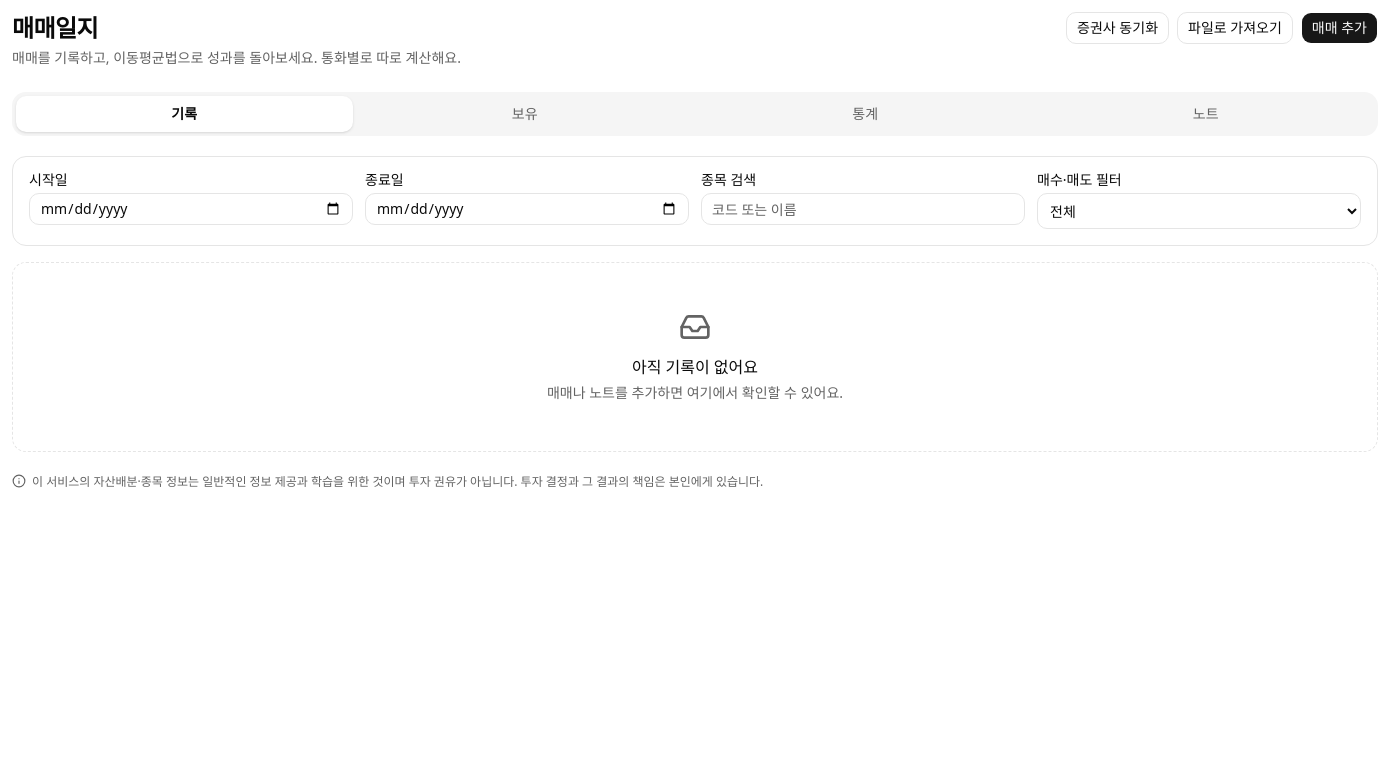
it: 매매일지 증권사 동기화 버튼 › 활성 연결만 목록 순서대로 최근 7일을 요청하고, 실패한 연결 뒤에도 계속하며 성공하면 목록을 다시 불러온다
Step 1. Click the button "증권사 동기화" → coordinates (1118, 28), box [1066, 12, 1169, 44]
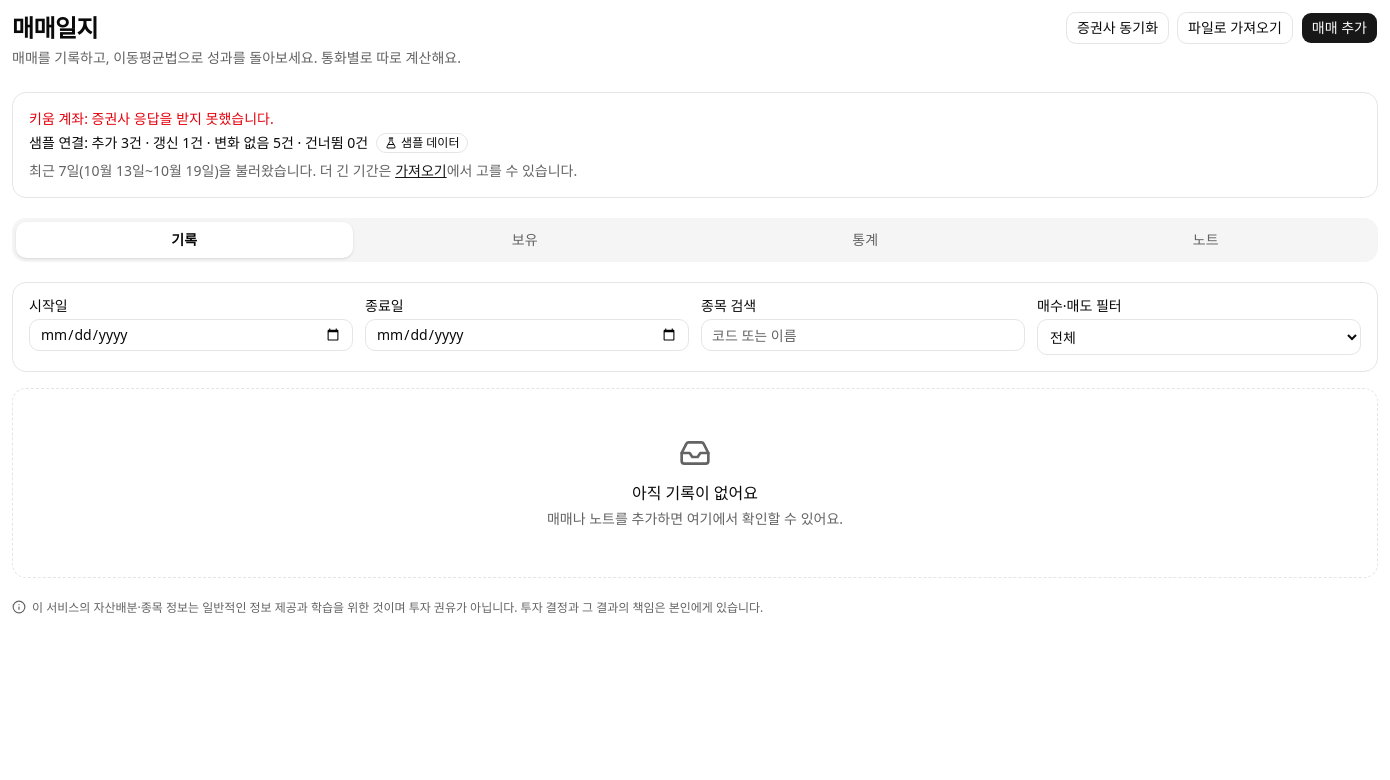
Now the text "샘플 연결: 추가 3건 · 갱신 1건 · 변화 없음 5건 · 건너뜀 0건" is shown, box [29, 133, 368, 153]
Now the element named "샘플 데이터:" is shown, box [376, 133, 468, 153]
